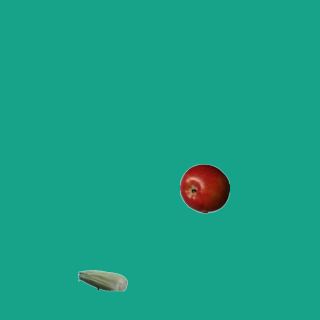Apple Braeburn: (179, 163, 229, 213)
Corn Husk: (77, 255, 127, 305)
